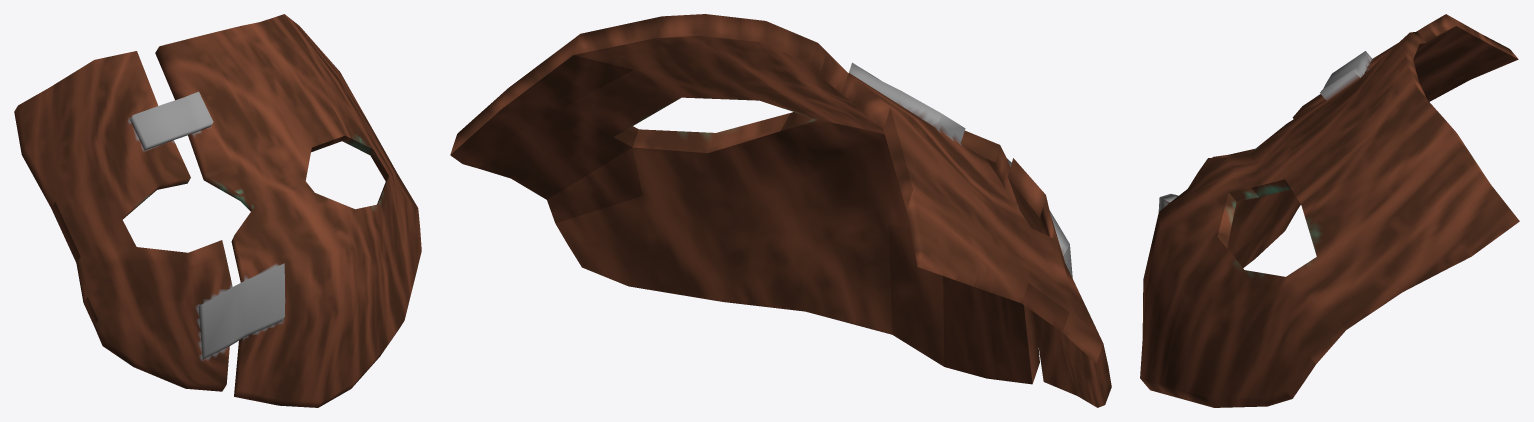
The model's file is masque_seul.fbx.
The picture shows the model from 3 angles, left to right: view 1: azimuth 30°, elevation 25°; view 2: azimuth 150°, elevation 25°; view 3: azimuth 270°, elevation 25°; orthographic projection. The views are drawn at different scales.
Visible parts, largest first — view 1: polySurface8; view 2: polySurface8; view 3: polySurface8.
Boxes of the visible parts, x1=… form: polySurface8: x1=14, y1=14, x2=421, y2=407; polySurface8: x1=450, y1=14, x2=1111, y2=407; polySurface8: x1=1140, y1=14, x2=1519, y2=407.
Bounding box in the file's own units: 97.81 × 82.61 × 84.49.
